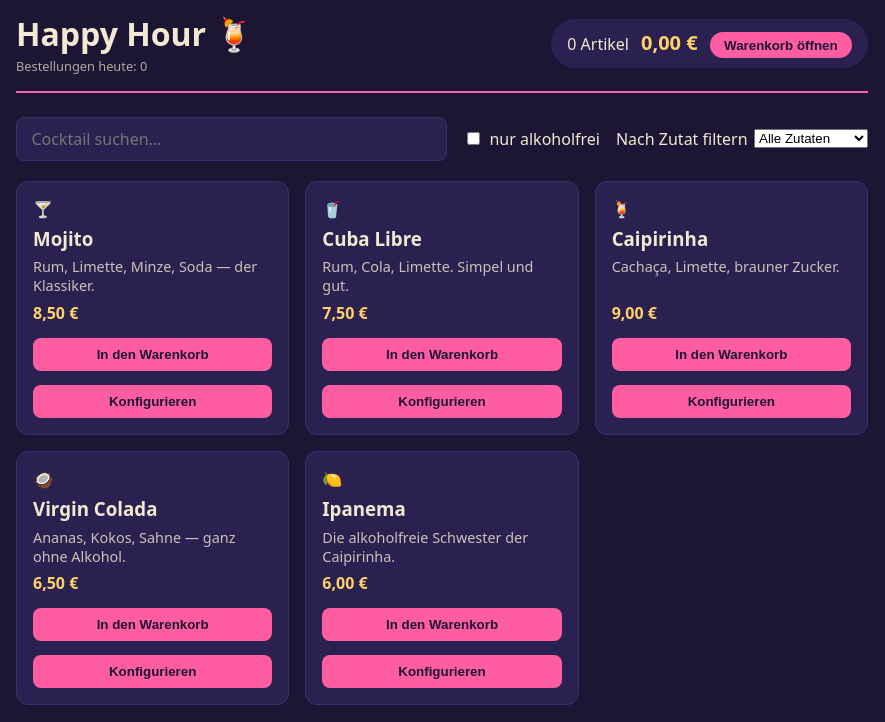
App › zeigt mit Filter 'nur alkoholfrei' nur alkoholfreie Cocktails
Click the checkbox labelled "nur alkoholfrei" at (474, 139), box [467, 132, 480, 146]
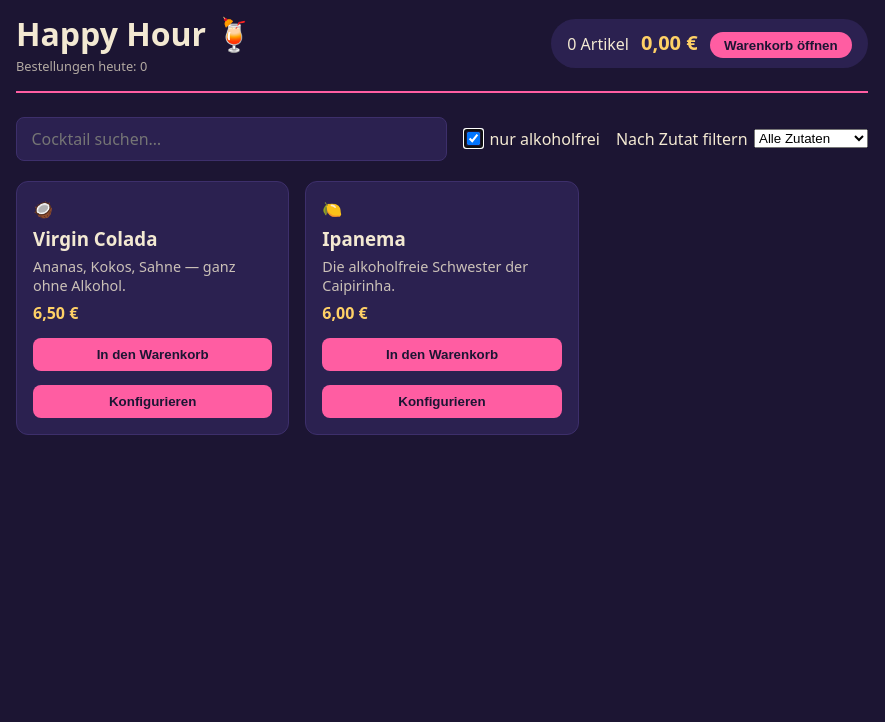
Check: the heading "Virgin Colada" is shown, box [33, 226, 158, 251]
Check: the heading "Mojito" is gone
